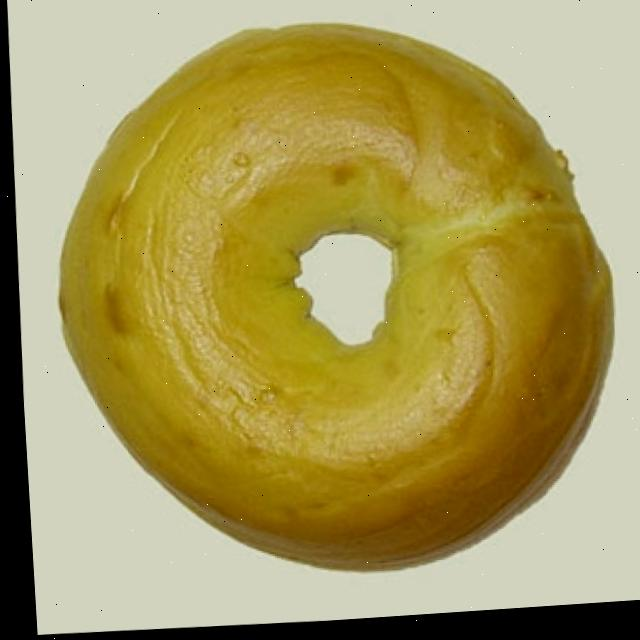面包点心: (25, 0, 637, 621)
